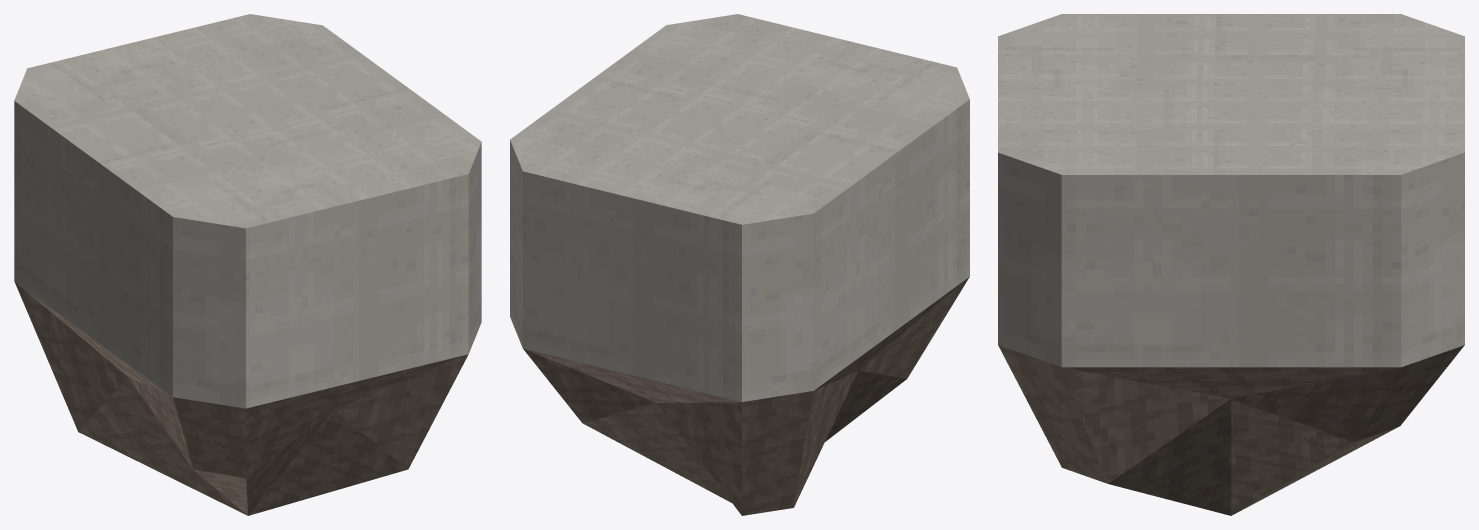
Rendered from 05a7_Sea_Lion_Island.glb.
3 renders of one model, left to right at view 1: azimuth 30°, elevation 25°; view 2: azimuth 150°, elevation 25°; view 3: azimuth 270°, elevation 25°, orthographic. The views are drawn at different scales.
Visible parts, largest first — view 1: part_0; view 2: part_0; view 3: part_0.
Part boxes in pixels (left/top/right/bottom): part_0: left=14, top=14, right=481, bottom=515; part_0: left=510, top=14, right=969, bottom=515; part_0: left=998, top=14, right=1464, bottom=515.
Bounding box in the file's own units: 89.78 × 110 × 110.
Materials: 1 (1 with a texture image).
